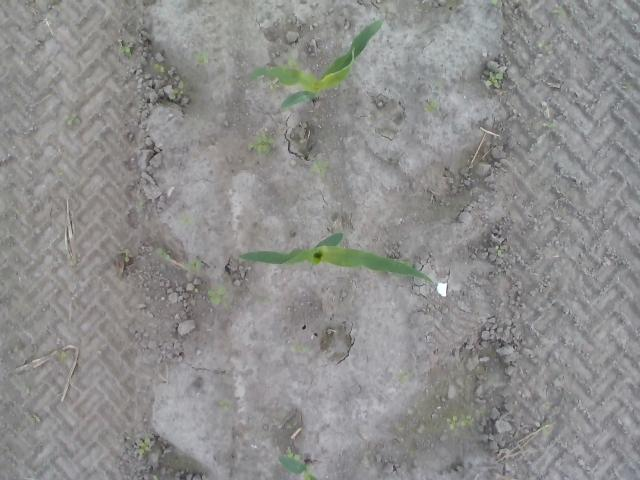Maize: (246, 17, 384, 110), (239, 232, 438, 292), (276, 454, 320, 480)
Weeds: (248, 133, 274, 155), (446, 414, 472, 431), (135, 436, 155, 454), (208, 286, 225, 305), (485, 72, 503, 88), (313, 160, 329, 176), (283, 56, 300, 70), (64, 112, 82, 125), (423, 98, 439, 112), (193, 52, 209, 65), (188, 258, 202, 271), (173, 80, 186, 94), (157, 247, 170, 260), (154, 62, 166, 75), (287, 449, 301, 460), (268, 79, 280, 89), (217, 400, 230, 409), (118, 46, 132, 54), (496, 245, 502, 257)
